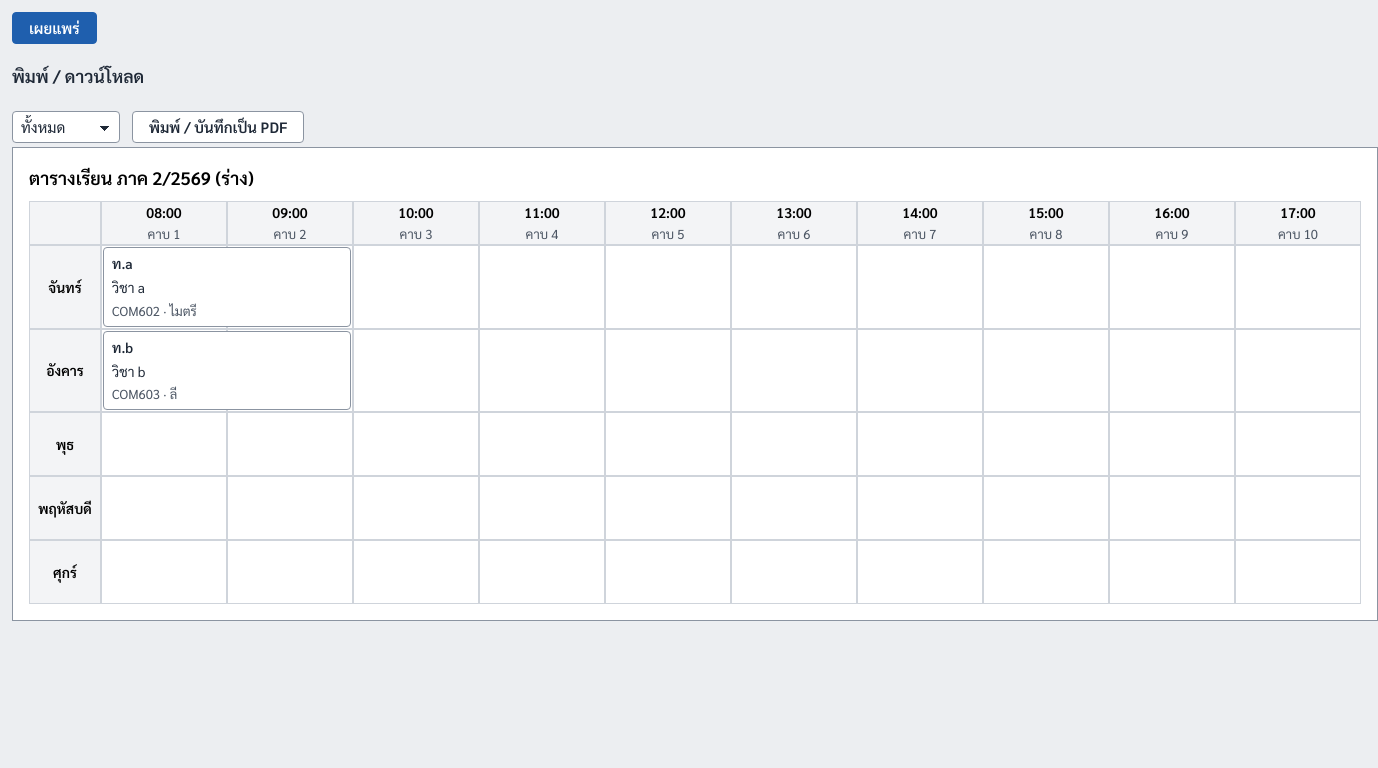
Test: ขั้น 9 เผยแพร่ + พิมพ์ › เลือกพิมพ์ตามครู: ตัวอย่างเหลือเฉพาะคาบของครูคนนั้น
Select "ตามอาจารย์" in the dropdown named "พิมพ์ตาม" at (66,127), box x1=12 y1=111 x2=120 y2=143
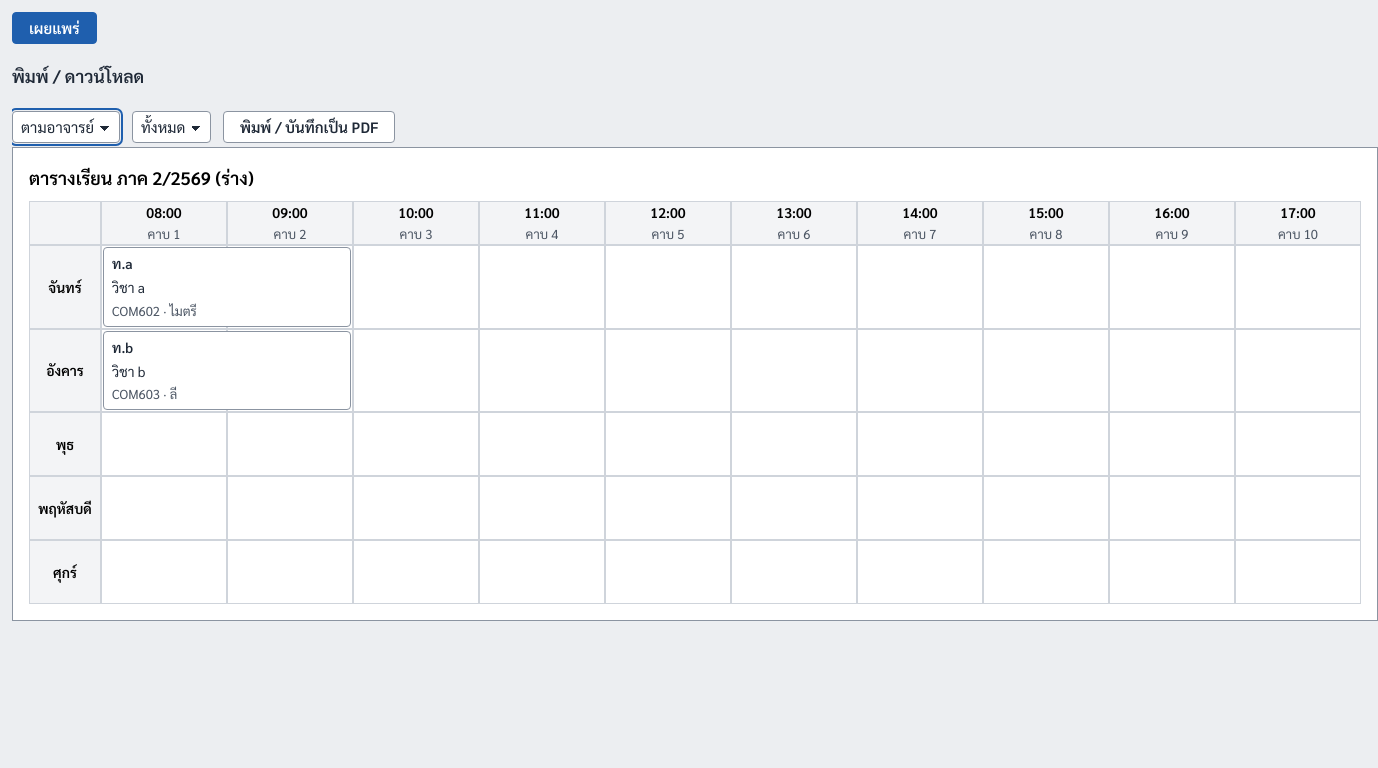
Select "ลี" in the dropdown named "เลือก" at (172,127), box x1=132 y1=111 x2=211 y2=143
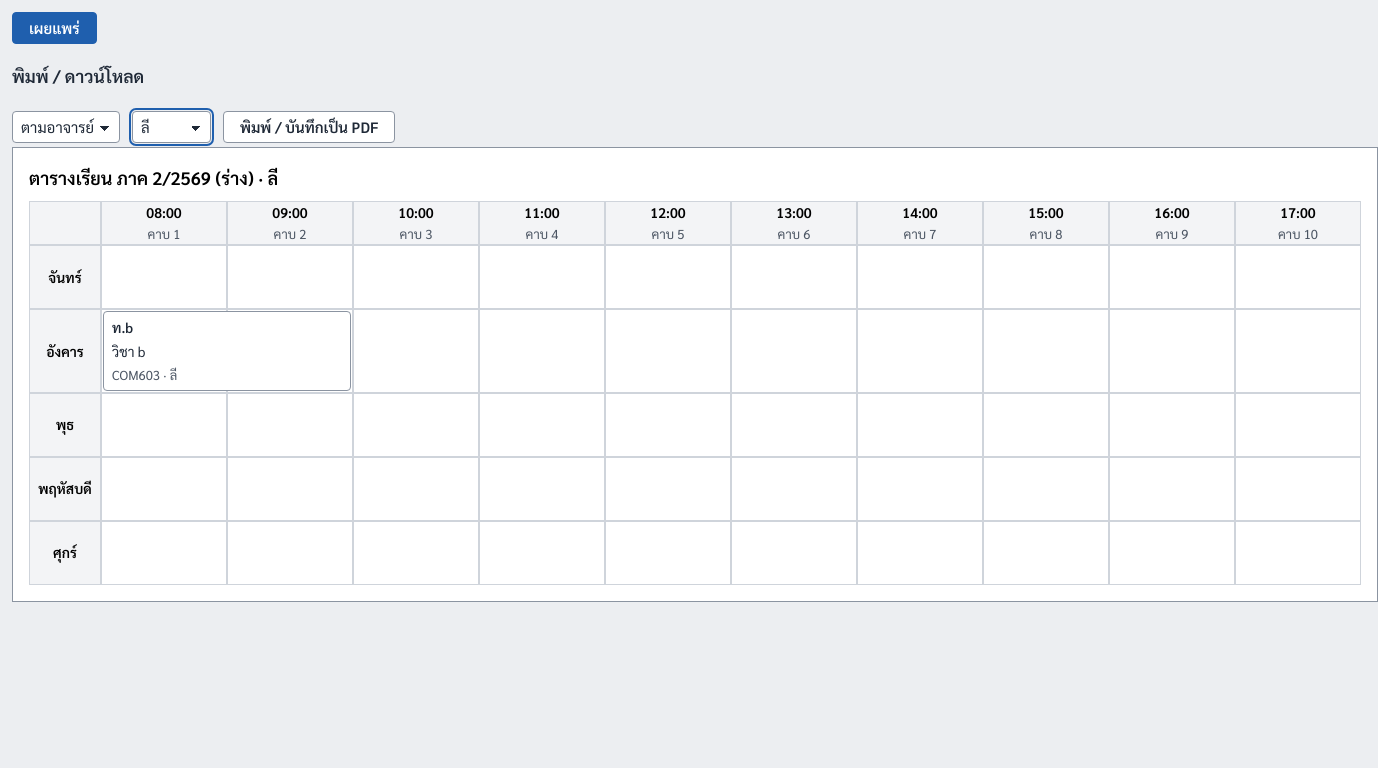
Now the heading "ตารางเรียน ภาค 2/2569 (ร่าง) · ลี" is shown, box x1=29 y1=166 x2=278 y2=189
